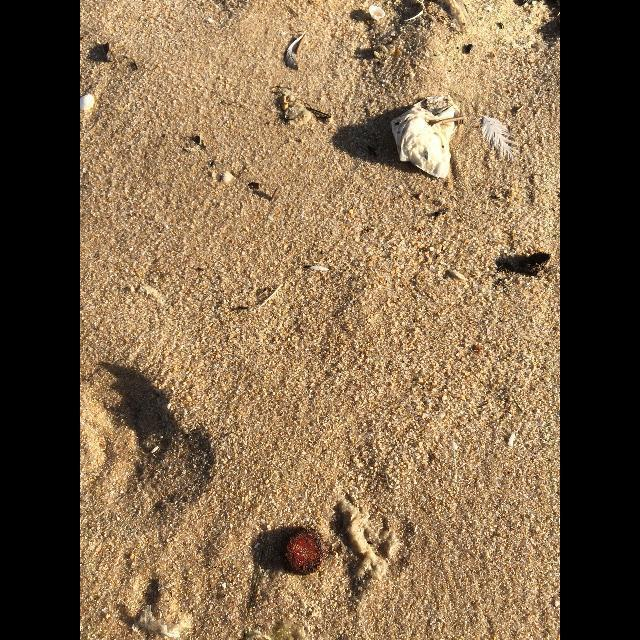Plastic: (131, 606, 181, 638), (442, 1, 476, 31)
